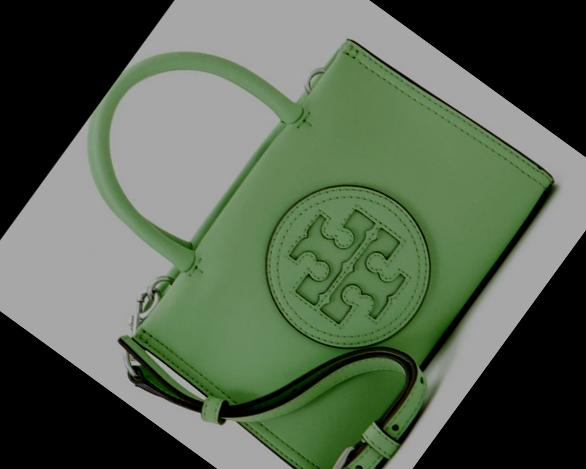TORY-BURCH: (234, 151, 464, 380)
